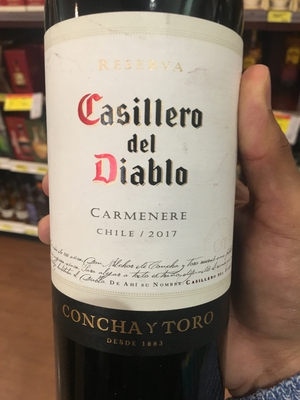casillero del diablo carmenere: (35, 10, 252, 400)
